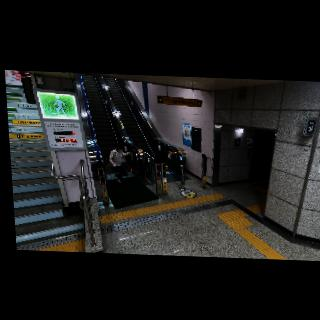anomaly: (109, 144, 135, 186)
